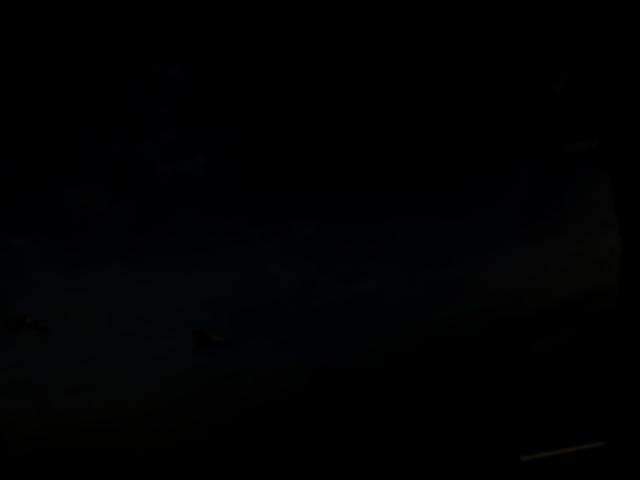uav: (2, 294, 57, 340), (192, 315, 238, 355)
